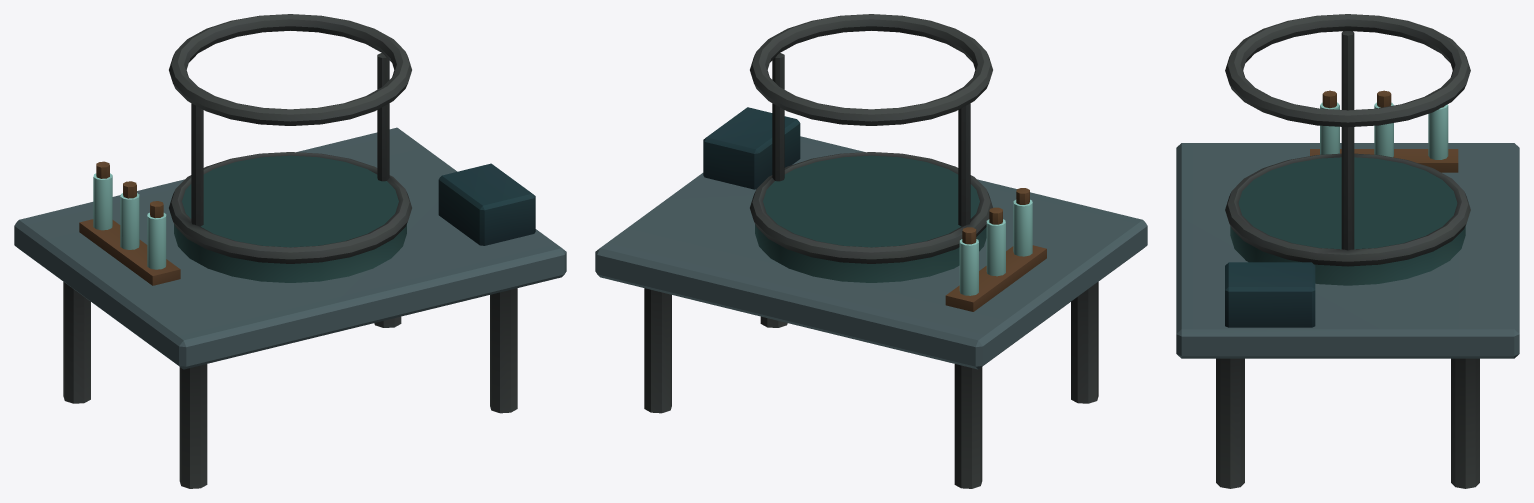
Rendered from hatchery.glb.
3 renders of one model, left to right at view 1: azimuth 30°, elevation 25°; view 2: azimuth 150°, elevation 25°; view 3: azimuth 270°, elevation 25°, orthographic.
Visible parts, largest first — view 1: hatchery; view 2: hatchery; view 3: hatchery.
Boxes of the visible parts, <box> form: hatchery: <box>14,14,566,488</box>; hatchery: <box>595,14,1147,488</box>; hatchery: <box>1176,14,1519,488</box>.
Bounding box in the file's own units: 2.5 × 2.1 × 1.9.
